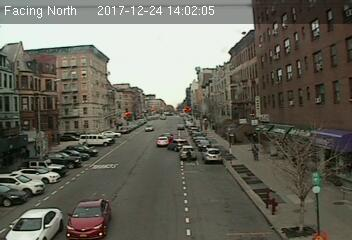car: (68, 199, 110, 238), (180, 145, 196, 163), (203, 148, 223, 162), (155, 135, 169, 147)
